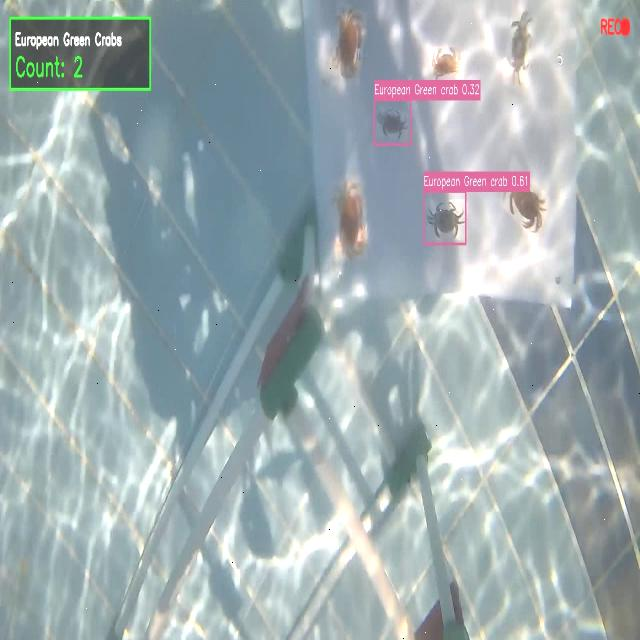European_Green_Crab: (501, 4, 538, 90), (422, 192, 464, 242), (376, 100, 410, 142)
